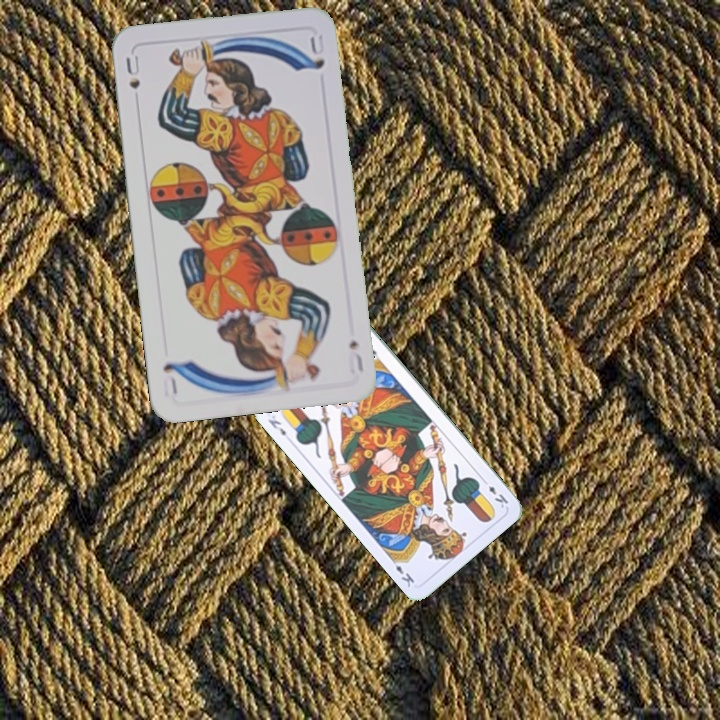EK: (478, 475, 511, 511), (264, 415, 293, 445)
SU: (344, 335, 366, 376), (122, 52, 143, 91)
